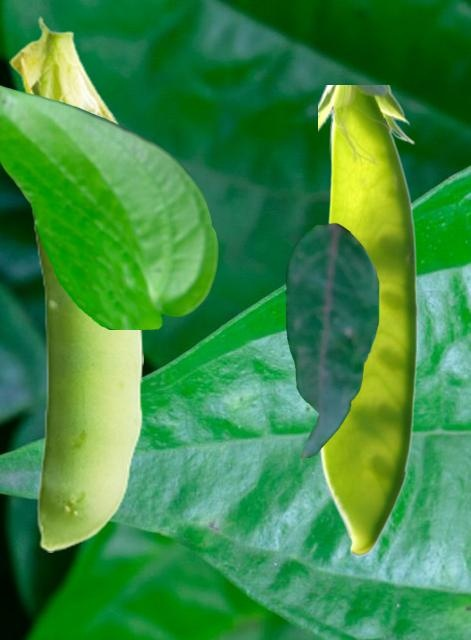pea: (9, 16, 142, 551), (318, 85, 418, 556)
